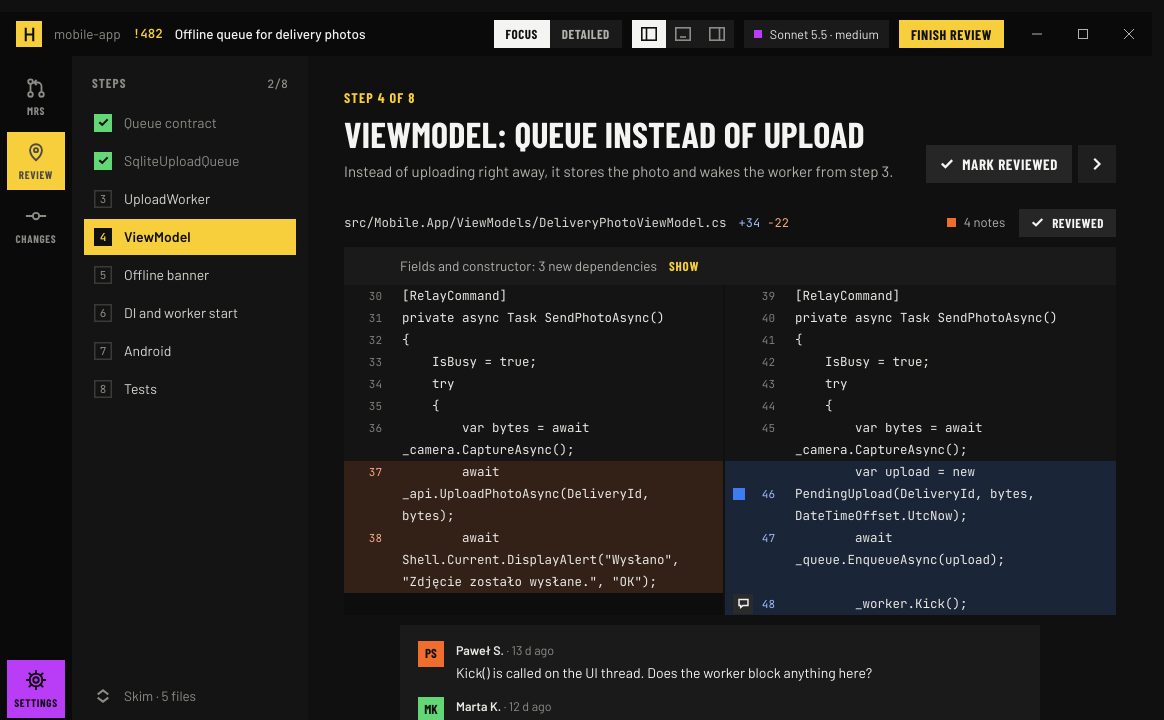
Test case: S-05 summary of an MR session (F-12.1) › F-12.1 Finish review in the title bar opens the summary with the steps marked so far
Expected: the text "Step 4 of 8" is shown, [344, 89, 416, 106]
Click the button "Finish review" at (951, 34), box [899, 20, 1004, 48]
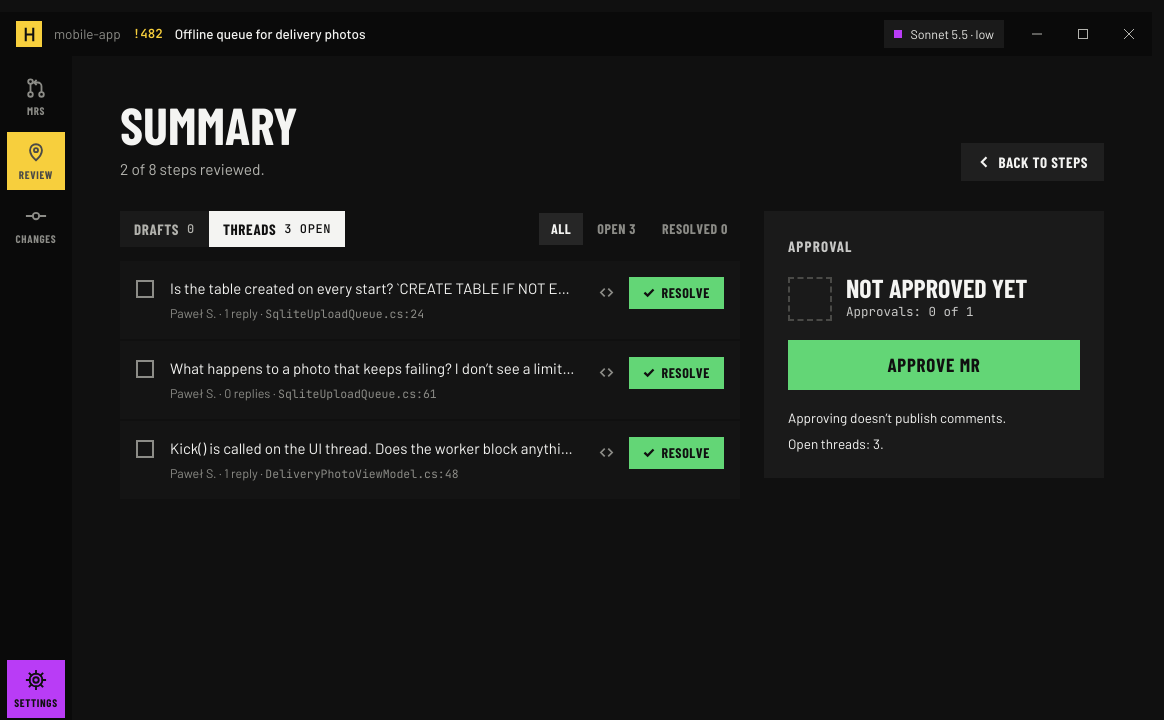
Now the heading "Summary" is shown, box [120, 100, 298, 149]
Now the text "2 of 8 steps reviewed." is shown, box [120, 159, 265, 178]
Now the button "Back to steps" is shown, box [960, 143, 1104, 181]
